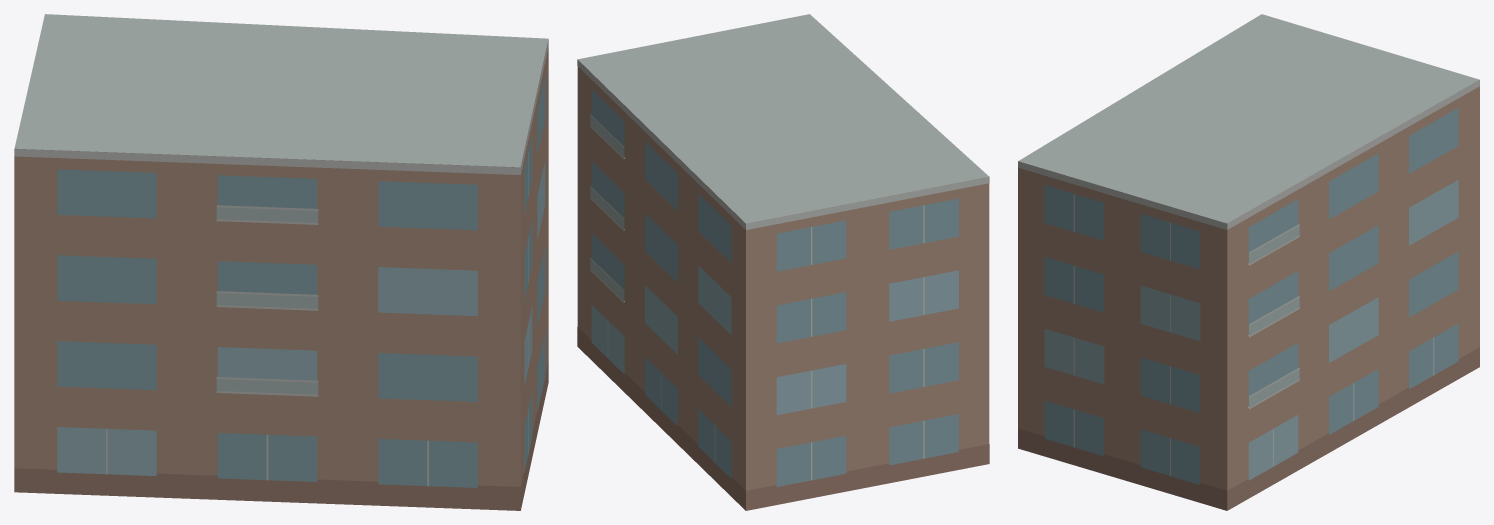
The model's file is survey-upis-32809376.glb.
The picture shows the model from 3 angles, left to right: view 1: azimuth 30°, elevation 25°; view 2: azimuth 150°, elevation 25°; view 3: azimuth 270°, elevation 25°; orthographic projection. The views are drawn at different scales.
Parts seen in each view (by area): view 1: survey-upis-32809376.tmp; view 2: survey-upis-32809376.tmp; view 3: survey-upis-32809376.tmp.
Boxes of the visible parts, x1=… form: survey-upis-32809376.tmp: x1=14, y1=14, x2=548, y2=510; survey-upis-32809376.tmp: x1=577, y1=14, x2=989, y2=510; survey-upis-32809376.tmp: x1=1018, y1=14, x2=1479, y2=510.
Size of the model in its own units: 16.92 by 10.81 by 15.75.
